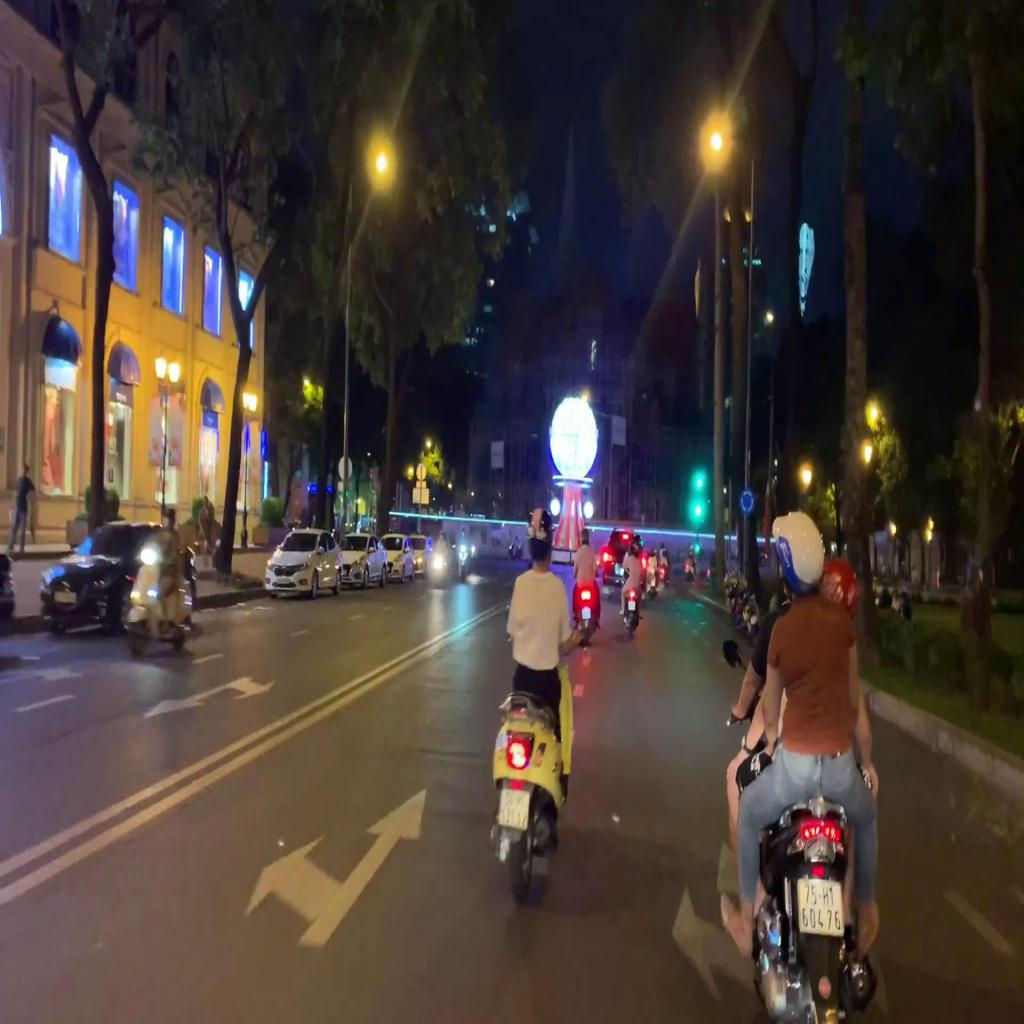noi_giao_nhau_chay_theo_vong: (739, 485, 754, 517)
